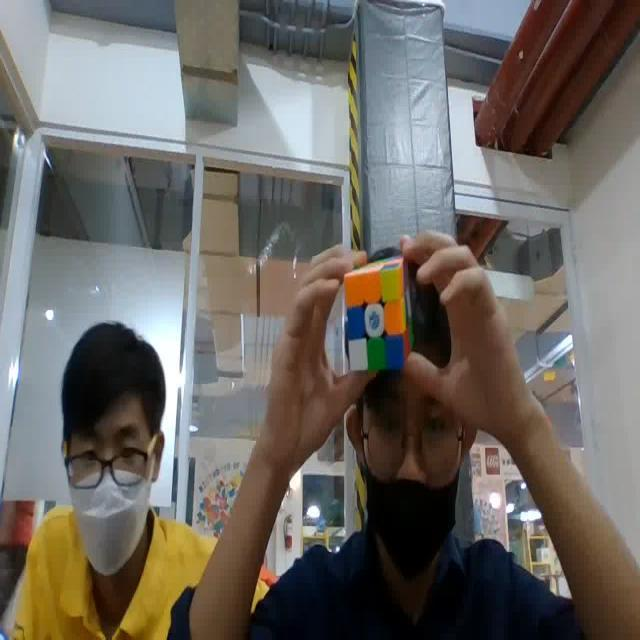Rub: (338, 254, 426, 377)
